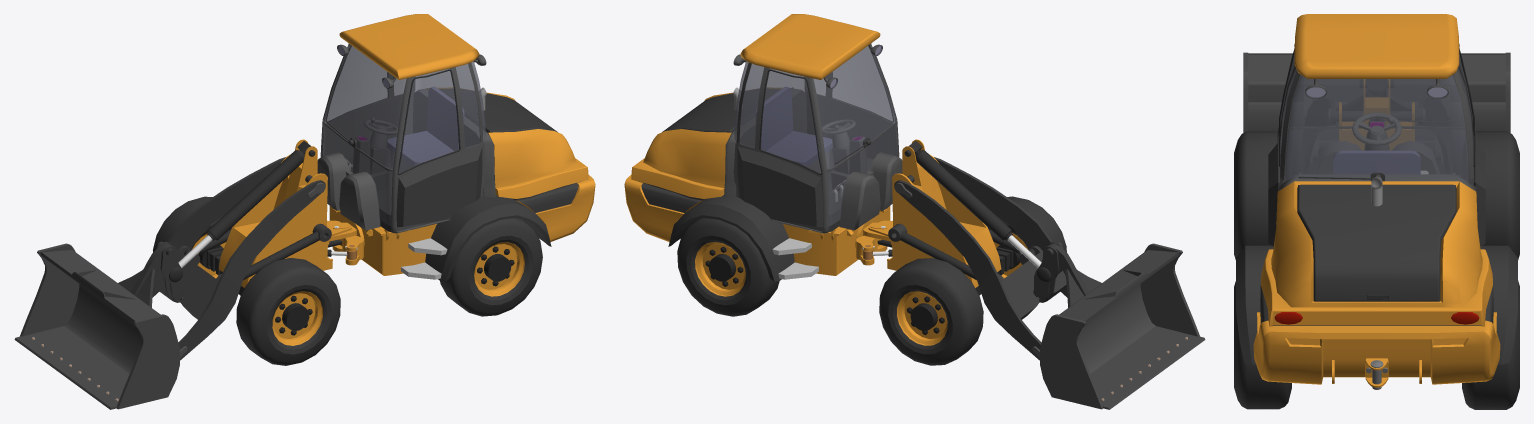
Rendered from JCBAutoTest.fbx.
3 renders of one model, left to right at view 1: azimuth 30°, elevation 25°; view 2: azimuth 150°, elevation 25°; view 3: azimuth 270°, elevation 25°, orthographic. The views are drawn at different scales.
Visible parts, largest first — view 1: polySurface203; view 2: polySurface203; view 3: polySurface203.
Boxes of the visible parts, bbox=[...] form: polySurface203: bbox=[14, 14, 595, 409]; polySurface203: bbox=[624, 14, 1205, 409]; polySurface203: bbox=[1234, 14, 1519, 409].
Size of the model in its own units: 31.17 by 14.8 by 11.33.
